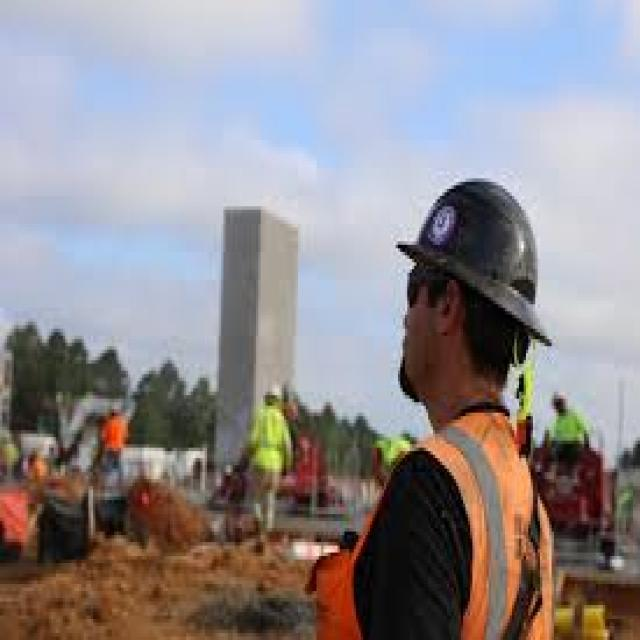Reflective-Jacket: (305, 398, 547, 640)
Safety-Helmet: (387, 168, 570, 357)
